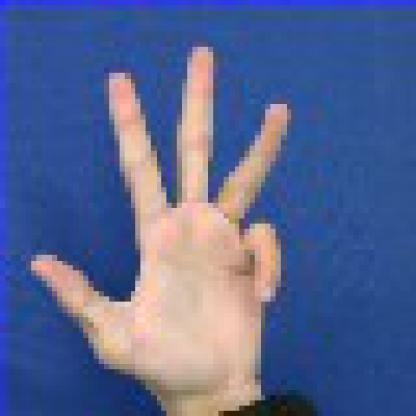nine: (14, 38, 327, 396)
